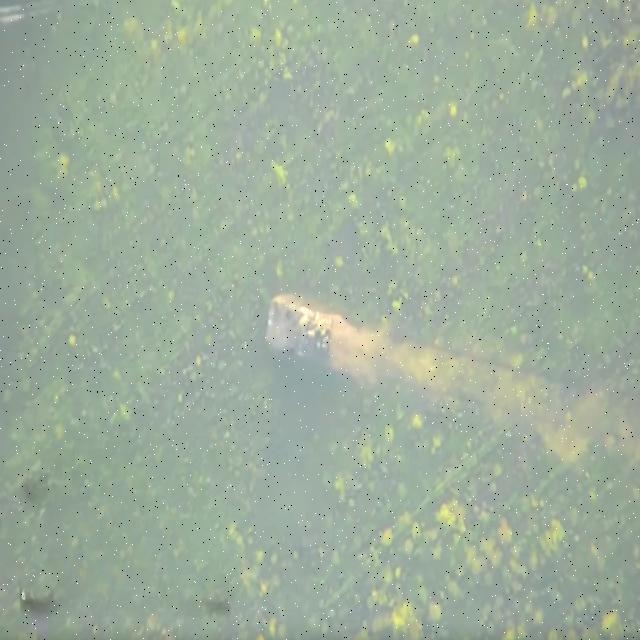AIFV: (264, 294, 338, 371)
